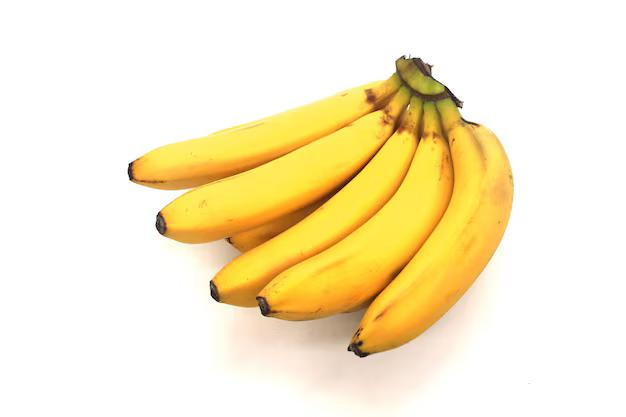non-mango: (125, 54, 517, 357)
